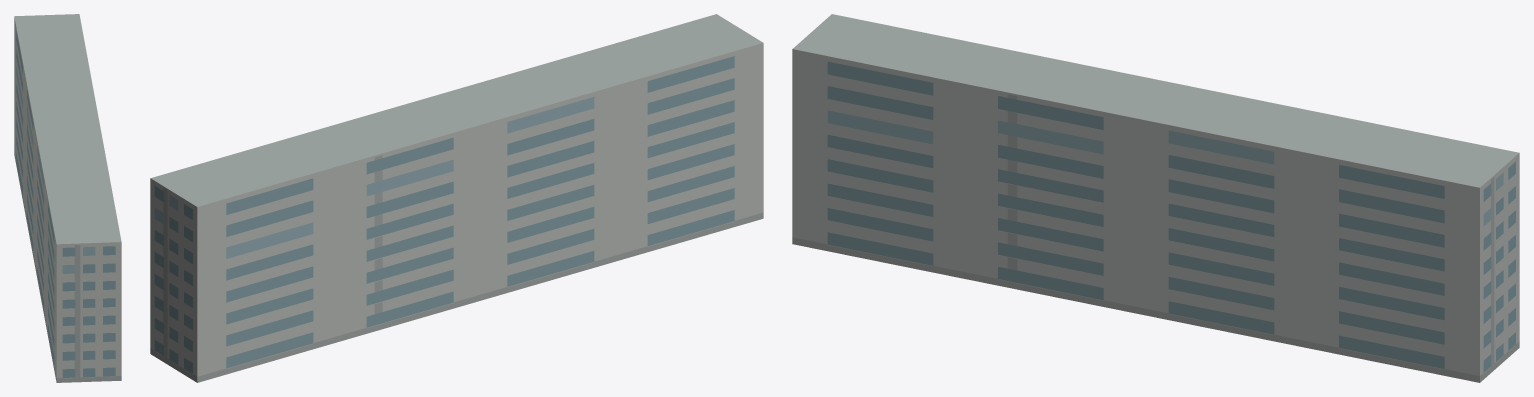
Rendered from residential-dd0cb694-a91b-4012-85ed-05f107d17793.glb.
The picture shows the model from 3 angles, left to right: view 1: azimuth 30°, elevation 25°; view 2: azimuth 150°, elevation 25°; view 3: azimuth 270°, elevation 25°; orthographic projection. The views are drawn at different scales.
Visible parts, largest first — view 1: residential-dd0cb694-a91b-4012-85ed-05f107d17793.tmp; view 2: residential-dd0cb694-a91b-4012-85ed-05f107d17793.tmp; view 3: residential-dd0cb694-a91b-4012-85ed-05f107d17793.tmp.
Boxes of the visible parts, x1=… form: residential-dd0cb694-a91b-4012-85ed-05f107d17793.tmp: x1=14, y1=14, x2=121, y2=382; residential-dd0cb694-a91b-4012-85ed-05f107d17793.tmp: x1=150, y1=14, x2=763, y2=382; residential-dd0cb694-a91b-4012-85ed-05f107d17793.tmp: x1=792, y1=14, x2=1519, y2=382.
Size of the model in its own units: 46.62 by 24.4 by 82.4.
